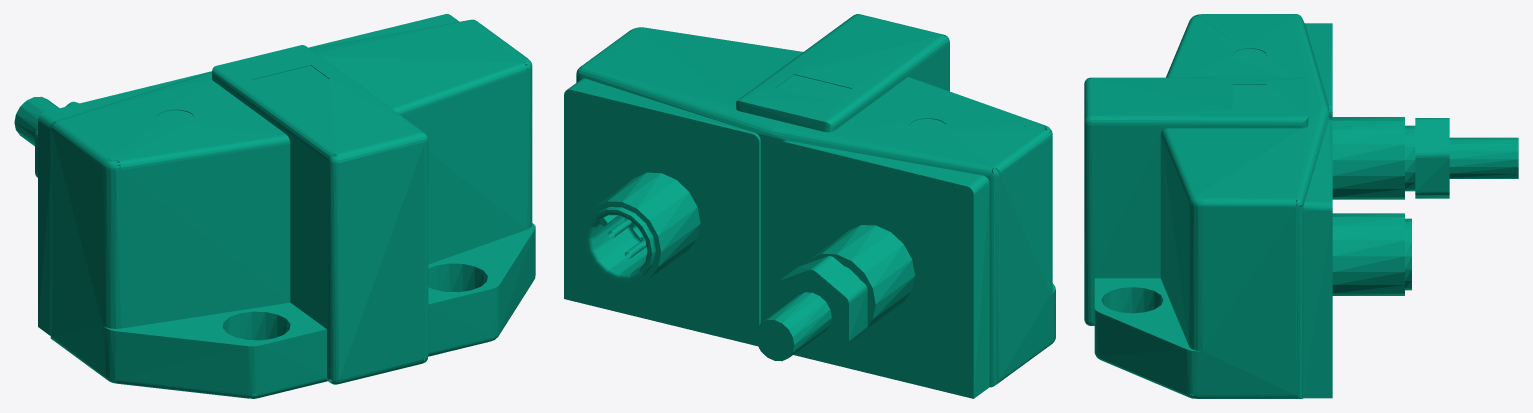
3 views of the same model, side by side, from view 1: azimuth 30°, elevation 25°; view 2: azimuth 150°, elevation 25°; view 3: azimuth 270°, elevation 25° (orthographic). The views are drawn at different scales.
Parts seen in each view (by area): view 1: Mesh; view 2: Mesh; view 3: Mesh.
Part boxes in pixels (x1,y1,x2,y2): Mesh: [14, 14, 535, 398]; Mesh: [564, 14, 1055, 398]; Mesh: [1084, 14, 1518, 398].
Size of the model in its own units: 65 by 33.5 by 63.
